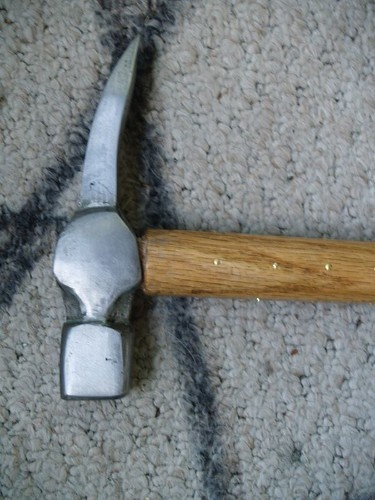hammer: (61, 32, 375, 411)
